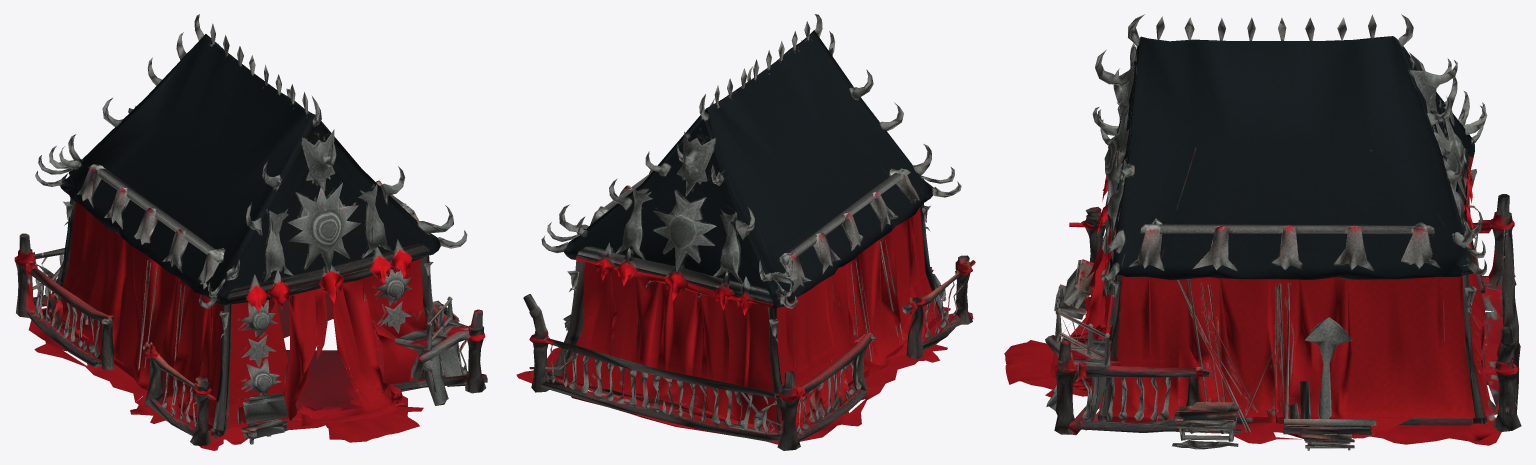
Rendered from LeuTrai_GiacAn.fbx.
3 renders of one model, left to right at view 1: azimuth 30°, elevation 25°; view 2: azimuth 150°, elevation 25°; view 3: azimuth 270°, elevation 25°, orthographic. The views are drawn at different scales.
Parts seen in each view (by area): view 1: Mesh_0; view 2: Mesh_0; view 3: Mesh_0.
Part boxes in pixels (box(x1,y1,x2,y2)): Mesh_0: box(14, 14, 487, 450); Mesh_0: box(516, 14, 975, 450); Mesh_0: box(1004, 14, 1521, 450).
Size of the model in its own units: 80.13 by 69.73 by 94.29.
1 material, 1 textured.
